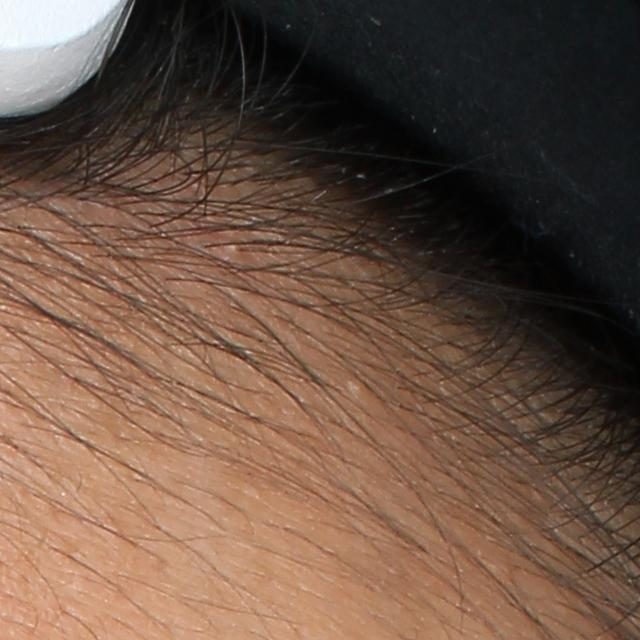comedo: (344, 373, 373, 403)
